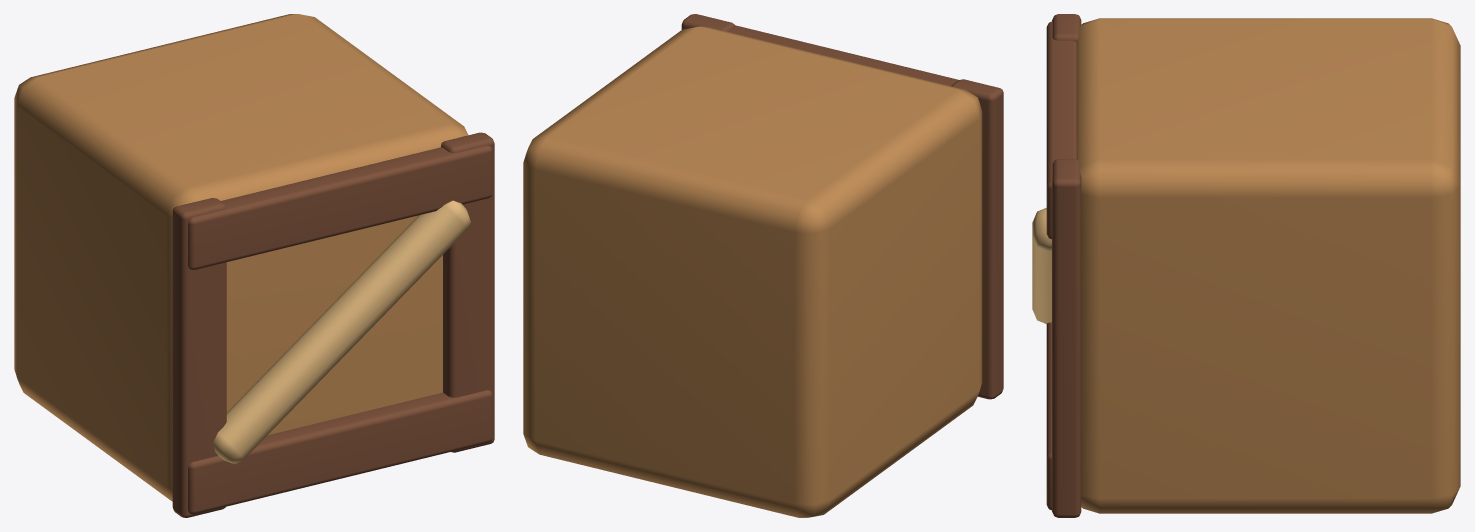
Rendered from FX_Loading.fbx.
3 views of the same model, side by side, from view 1: azimuth 30°, elevation 25°; view 2: azimuth 150°, elevation 25°; view 3: azimuth 270°, elevation 25° (orthographic). The views are drawn at different scales.
Parts seen in each view (by area): view 1: FX_Loading_Static; view 2: FX_Loading_Static; view 3: FX_Loading_Static.
Boxes of the visible parts, x1,y1,x2,y2 form: FX_Loading_Static: (14,14,494,517); FX_Loading_Static: (523,14,1003,517); FX_Loading_Static: (1032,14,1460,517).
Size of the model in its own units: 0.618 by 0.6 by 0.659.
1 material, 1 textured.
